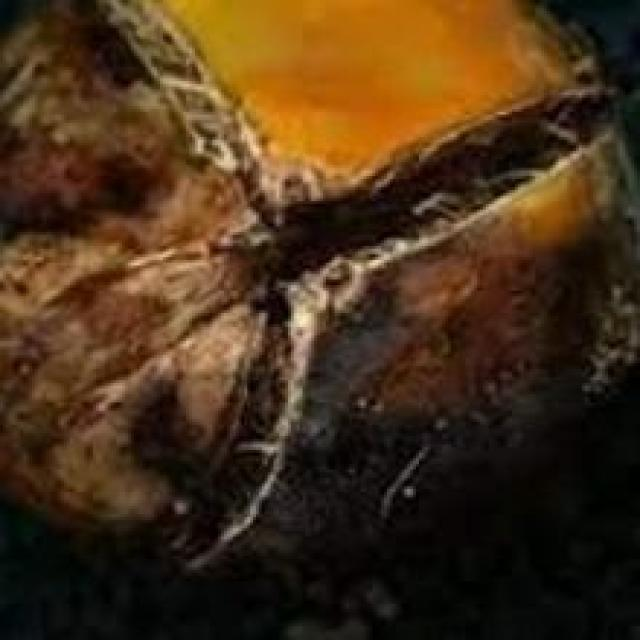damaged: (0, 0, 637, 618)
